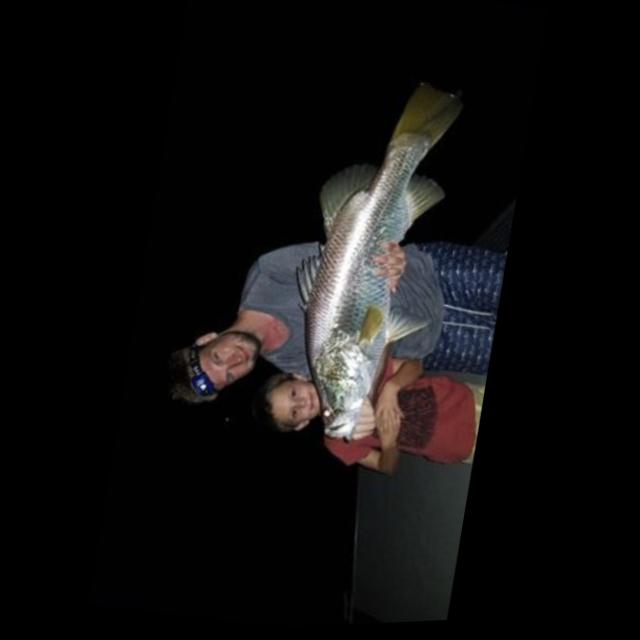Seabass: (267, 63, 466, 456)
